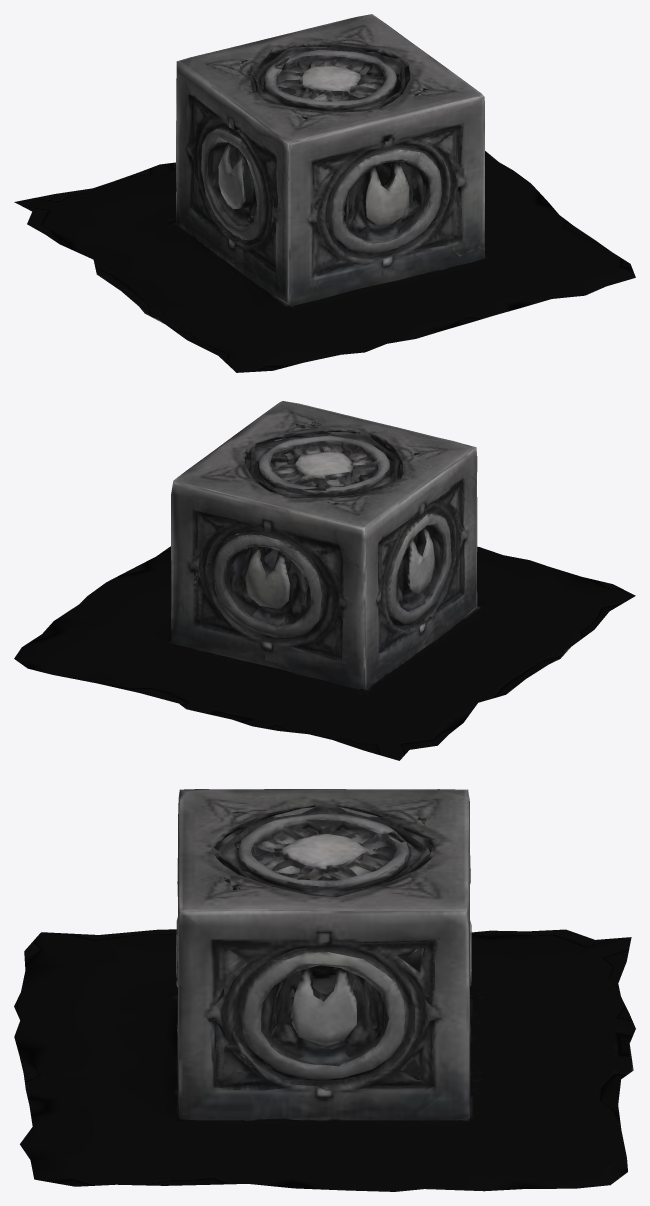
Rendered from rf_thermic_glyph.glb.
The picture shows the model from 3 angles, top to bottom: view 1: azimuth 30°, elevation 25°; view 2: azimuth 150°, elevation 25°; view 3: azimuth 270°, elevation 25°; orthographic projection. The views are drawn at different scales.
Parts seen in each view (by area): view 1: geometry_0; view 2: geometry_0; view 3: geometry_0.
Boxes of the visible parts, bbox=[...] form: geometry_0: bbox=[14, 14, 635, 372]; geometry_0: bbox=[14, 401, 635, 760]; geometry_0: bbox=[14, 789, 635, 1191].
Bounding box in the file's own units: 0.9985 × 0.3744 × 0.9929.
Materials: 1 (1 with a texture image).
